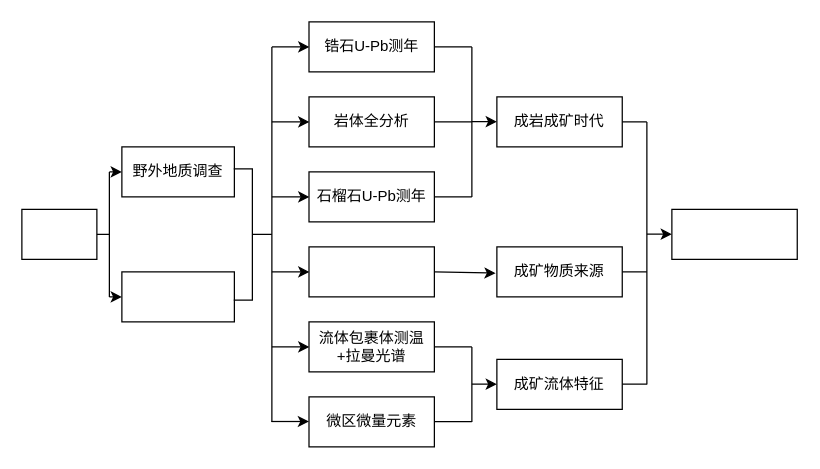
Some shapes in this 820 by 469 pixel diagram are drawn without their labels. Each missing label, with the centre of its shape:
"原位微区硫同位素" goes at (x=371, y=271).
"室内综合研究" goes at (x=177, y=296).
"矿床成因" goes at (x=734, y=233).
"研究内容" goes at (x=59, y=233).
